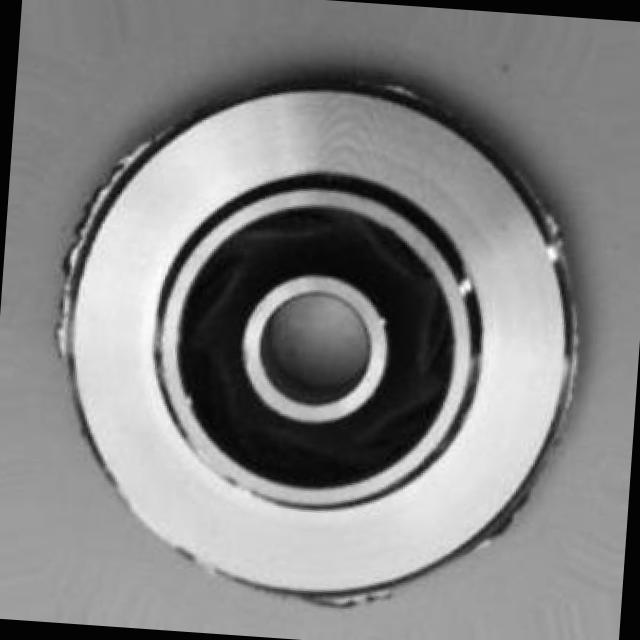Defect: (56, 136, 122, 301)
